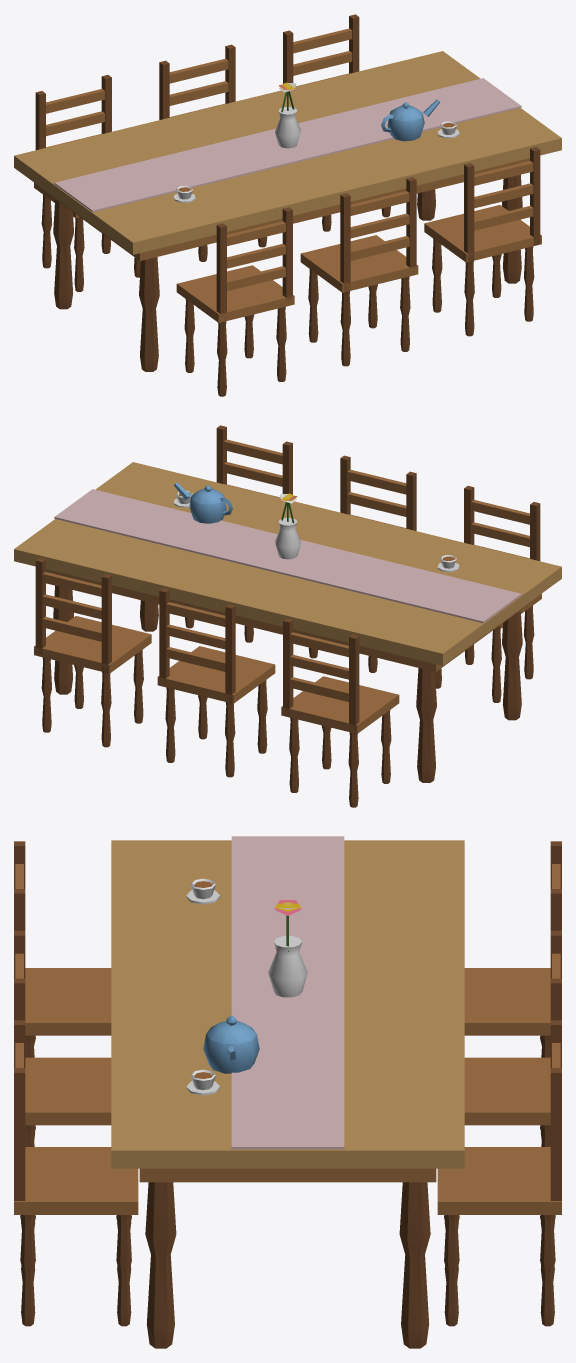
File: dining_table.glb
3 views of the same model, one above another, from view 1: azimuth 30°, elevation 25°; view 2: azimuth 150°, elevation 25°; view 3: azimuth 270°, elevation 25° (orthographic). The views are drawn at different scales.
Parts seen in each view (by area): view 1: furniture-dining_table; view 2: furniture-dining_table; view 3: furniture-dining_table.
Boxes of the visible parts, box(x1,y1,x2,y2) form: furniture-dining_table: box(14, 14, 561, 396); furniture-dining_table: box(14, 425, 561, 807); furniture-dining_table: box(14, 836, 561, 1348).
Bounding box in the file's own units: 2.6 × 1.21 × 1.94.
